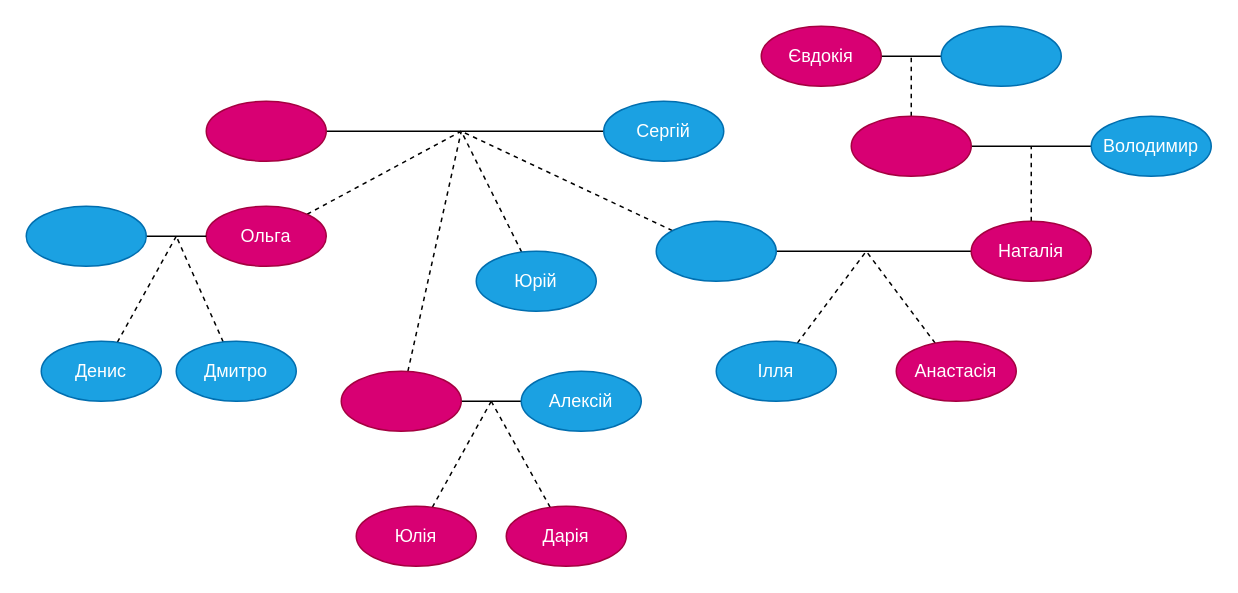
Image size: 1238x593. Some labels were removed from this diagram. The centre of each missing label's shape, as x and y in pixels:
"Арина" goes at point 910,145.
"Афанасій" goes at point 1000,55.
"Валентина" goes at point 265,130.
"Максим" goes at point 715,250.
"Михайло" goes at point 85,235.
"Ірина" goes at point 400,400.
